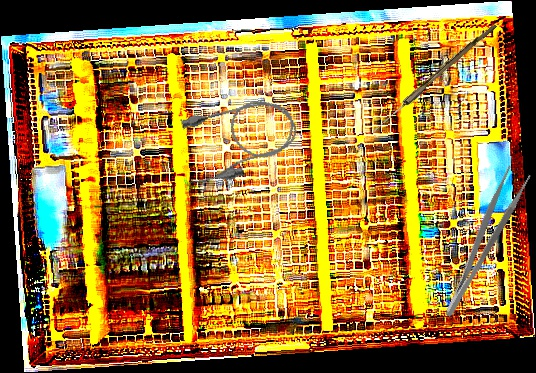Cannula: (172, 89, 305, 191)
Dressing Forceps: (429, 163, 534, 320)
Surgical Spoon: (371, 20, 497, 136)
